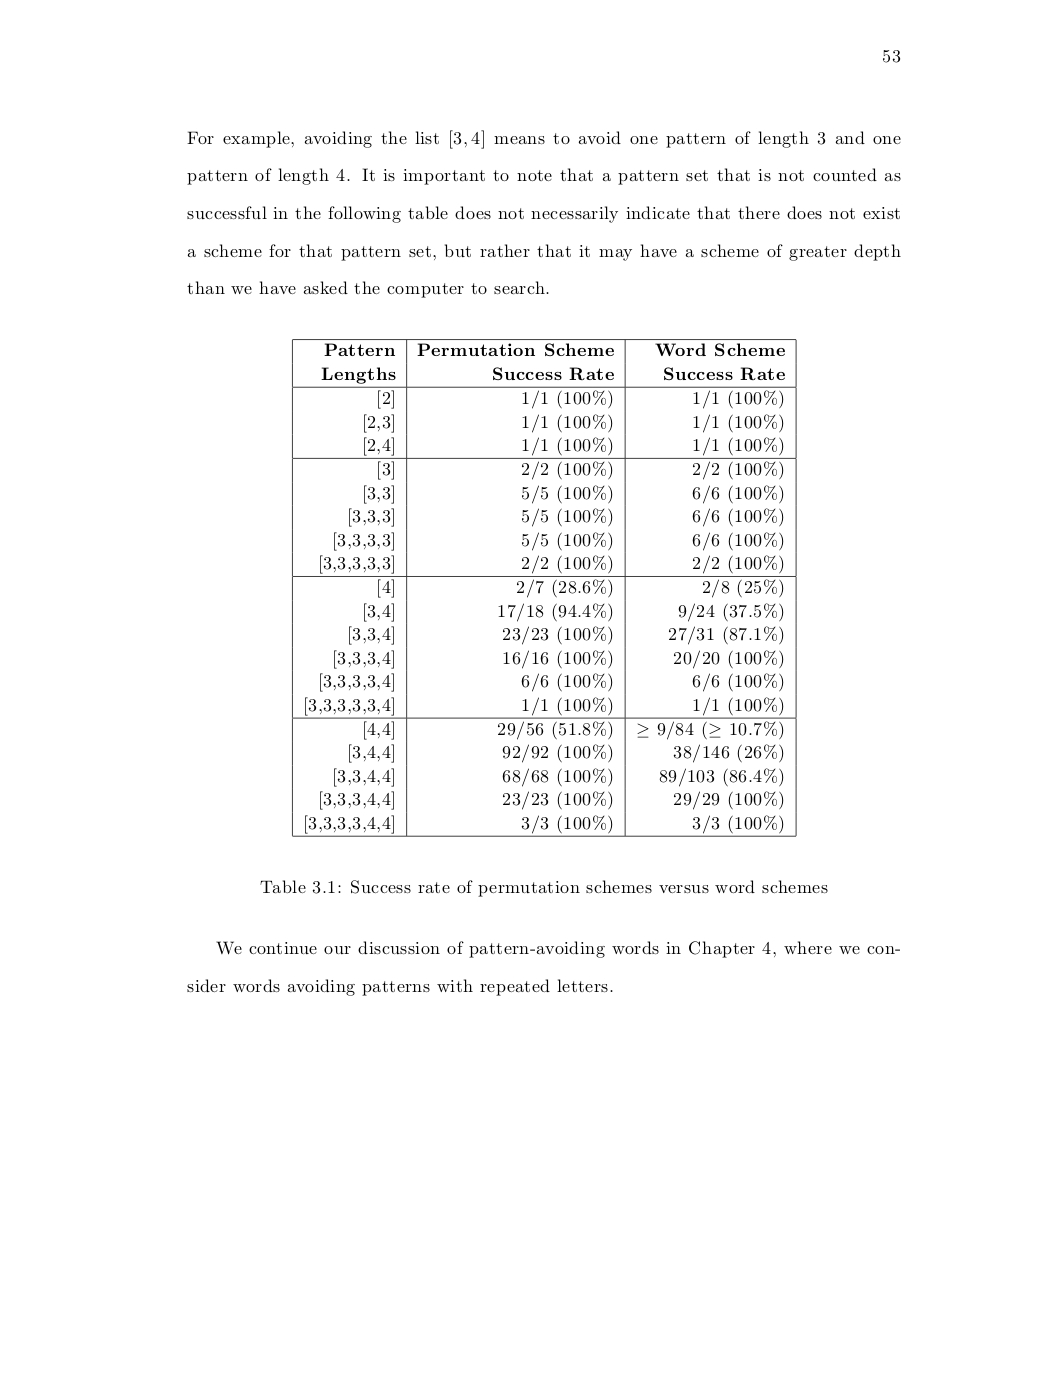Table: (291, 338, 796, 837)
